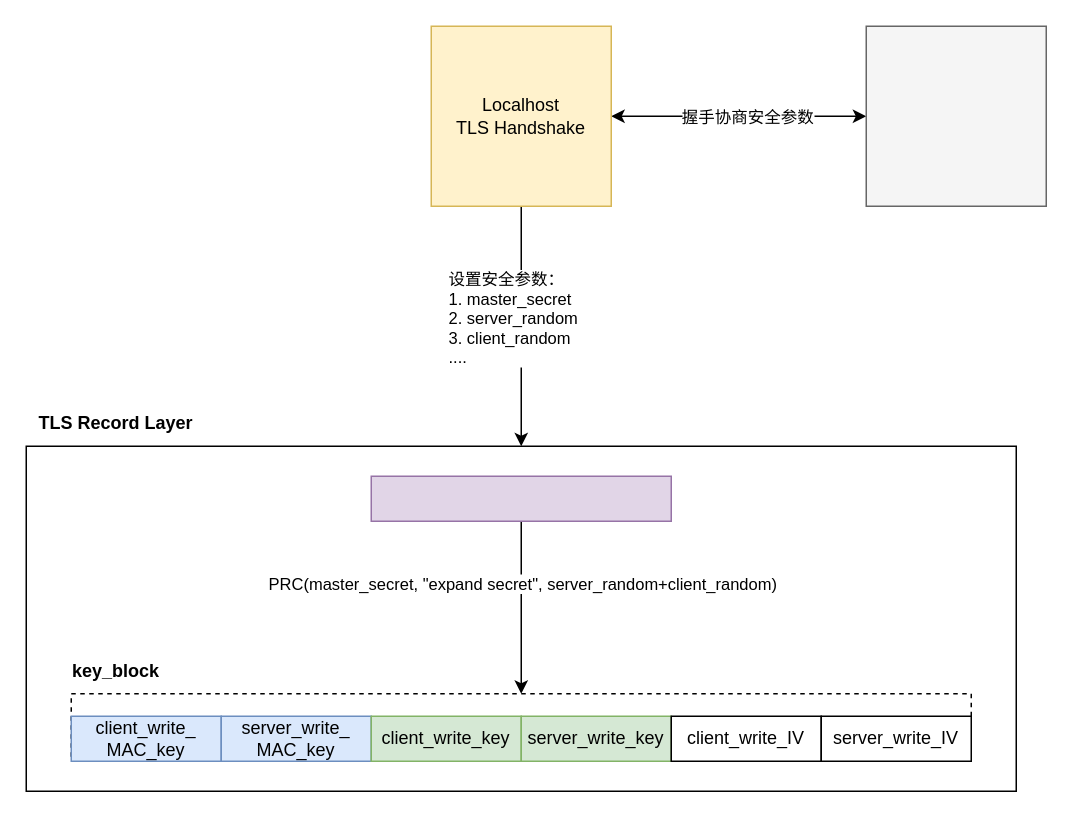
Image size: 1073x818. Some labels were removed from this diagram. Each missing label, with the centre of its shape:
master secret: (x=520, y=498)
Peer TLS Handshake: (x=955, y=115)
